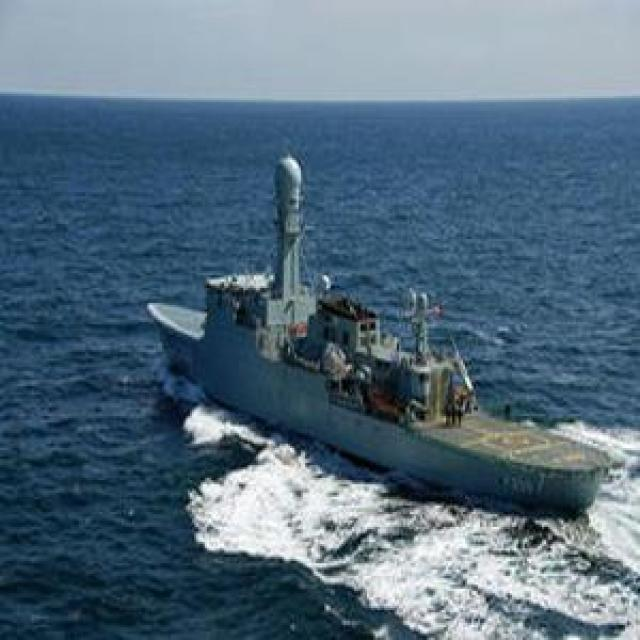navalvessels: (116, 148, 616, 540)
